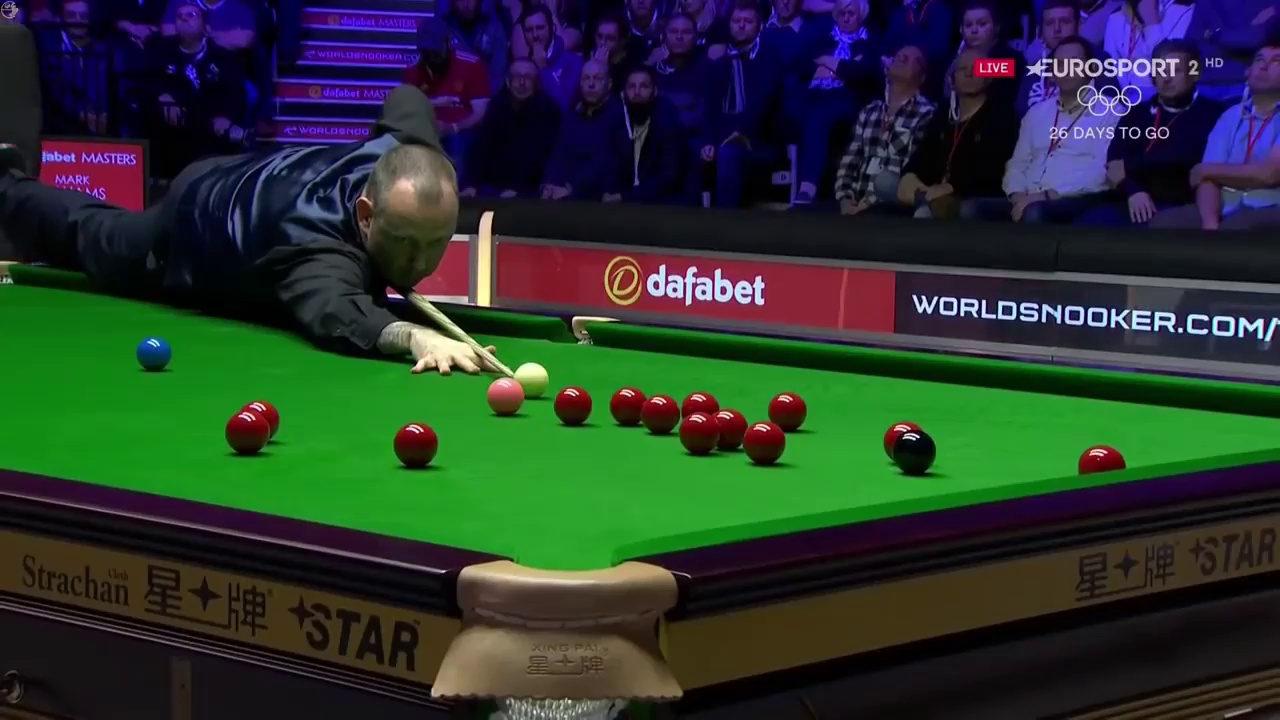black: (892, 431, 935, 473)
blue: (137, 334, 172, 367)
pink: (485, 378, 523, 416)
red: (396, 422, 437, 468), (227, 416, 268, 455), (745, 422, 785, 460), (679, 416, 717, 454), (770, 388, 804, 430), (641, 396, 678, 434), (557, 387, 590, 427)
